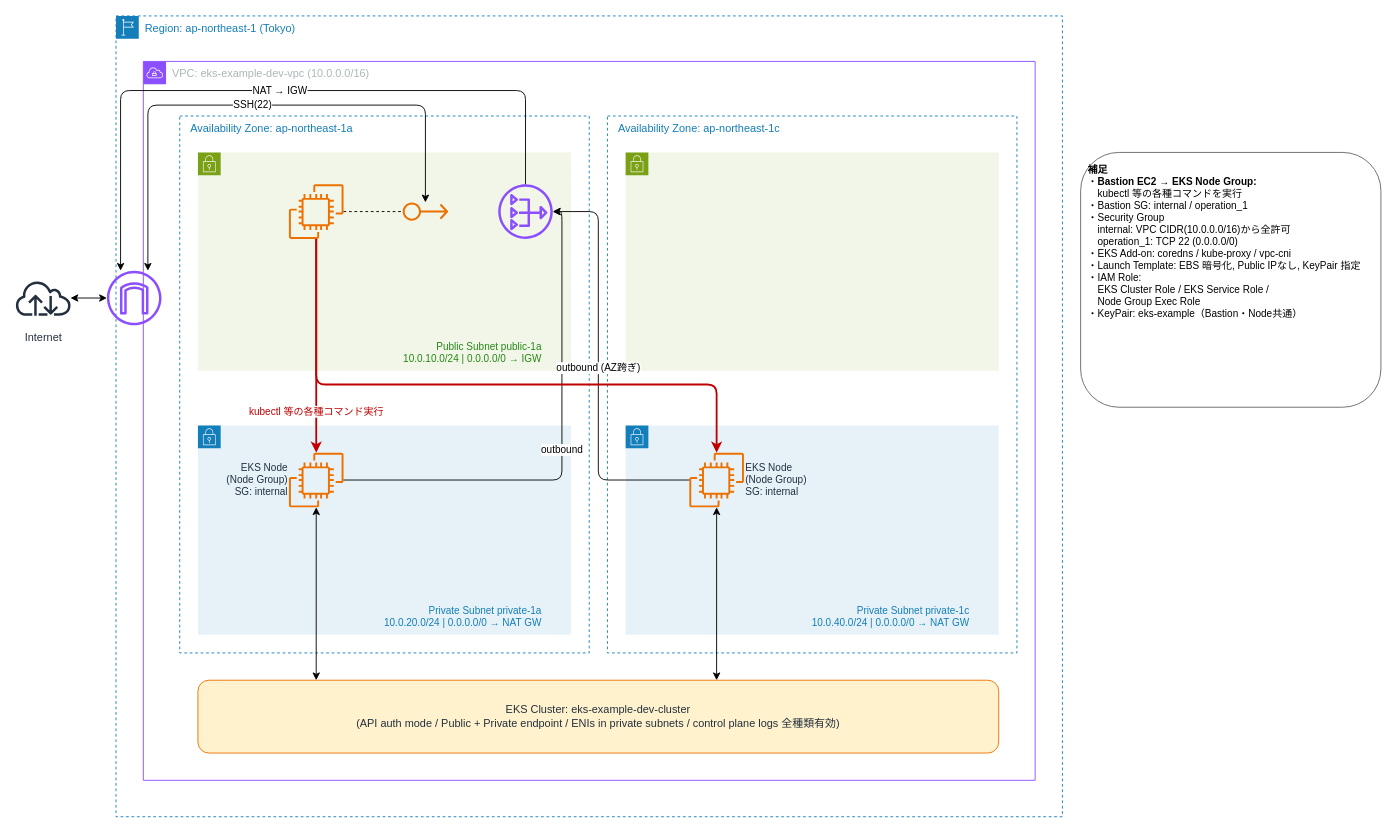
The diagram is 1397 pixels wide and 833 high, and some of its shapes have lost their labels. Each missing label, with the centre of its shape:
Bastion EC2: point 315,211
Elastic IP: point 425,211
Internet Gateway: point 133,297
NAT Gateway + EIP: point 525,211
Public Subnet public-1c 10.0.30.0/24 | 0.0.0.0/0 → IGW: point 812,261
